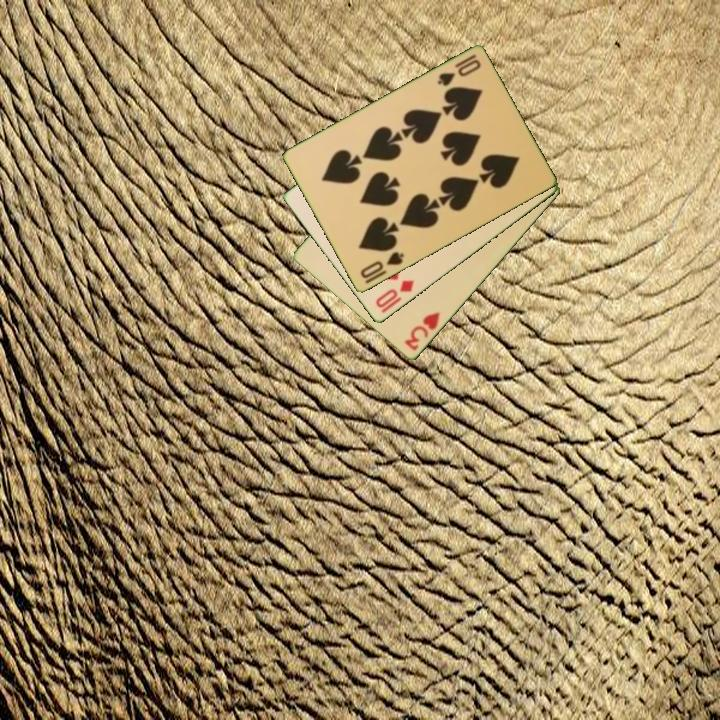10d: (372, 277, 417, 316)
10s: (434, 51, 484, 89), (357, 248, 407, 282)
3h: (401, 309, 443, 354)
